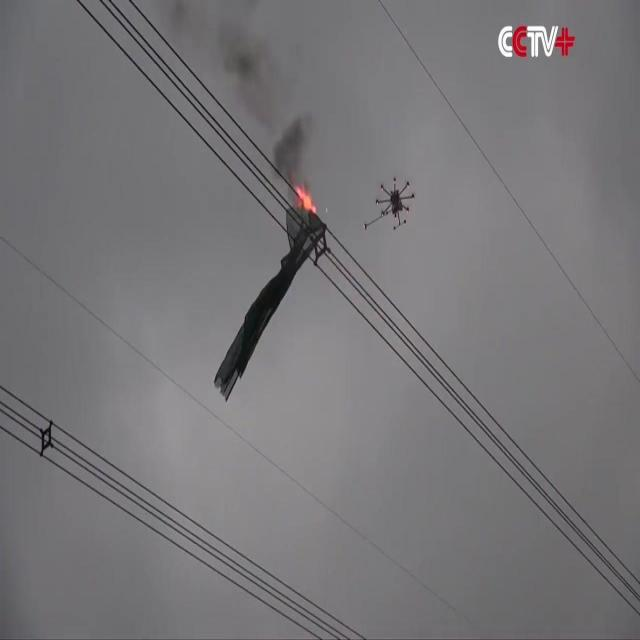UAV: (364, 176, 414, 230)
